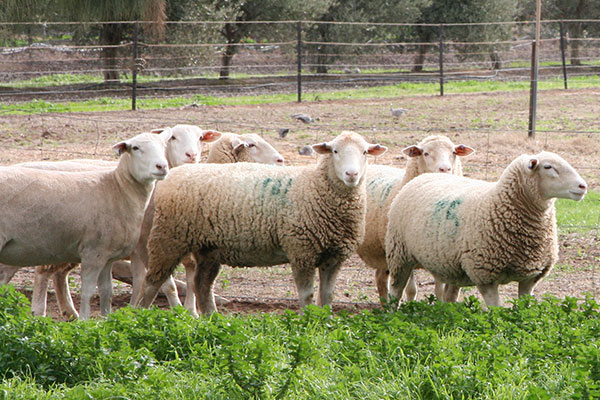sheep: (163, 144, 381, 339), (405, 150, 576, 326), (1, 124, 166, 292), (170, 116, 281, 172), (381, 128, 474, 189)
